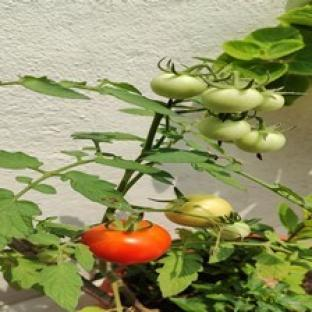Tomato: (81, 221, 171, 264), (165, 194, 232, 227), (202, 88, 263, 112), (151, 73, 207, 98), (198, 116, 250, 142), (234, 130, 285, 153), (255, 92, 285, 111), (221, 222, 250, 240)
